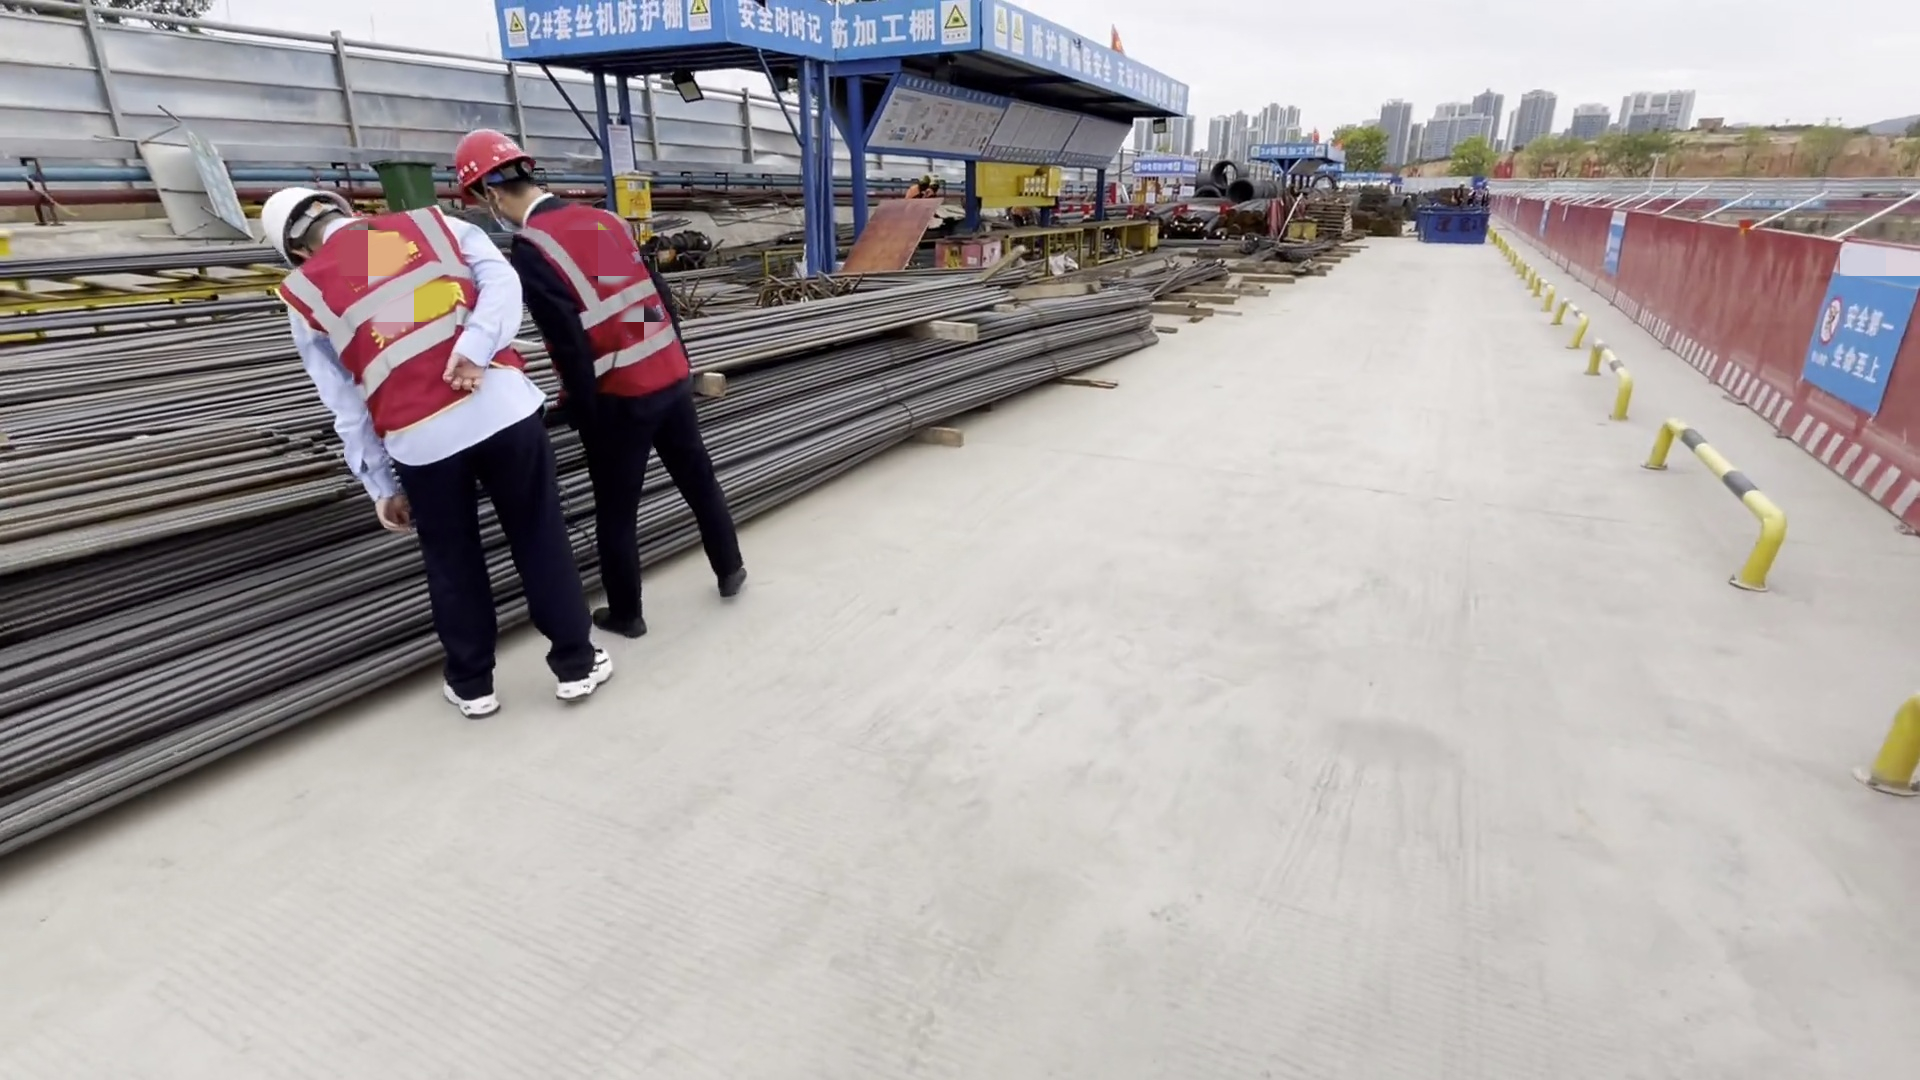ebox: (1011, 164, 1068, 200)
fence: (1495, 181, 1920, 532)
helmet: (245, 183, 321, 249), (440, 126, 525, 179)
hopper: (1413, 207, 1489, 246)
person: (256, 186, 614, 723), (452, 120, 744, 629)
rebar: (1, 241, 1159, 852), (1117, 256, 1239, 305)
slogan: (738, 1, 1206, 175), (1801, 256, 1917, 413)
vest: (278, 205, 477, 445), (515, 216, 702, 412)
